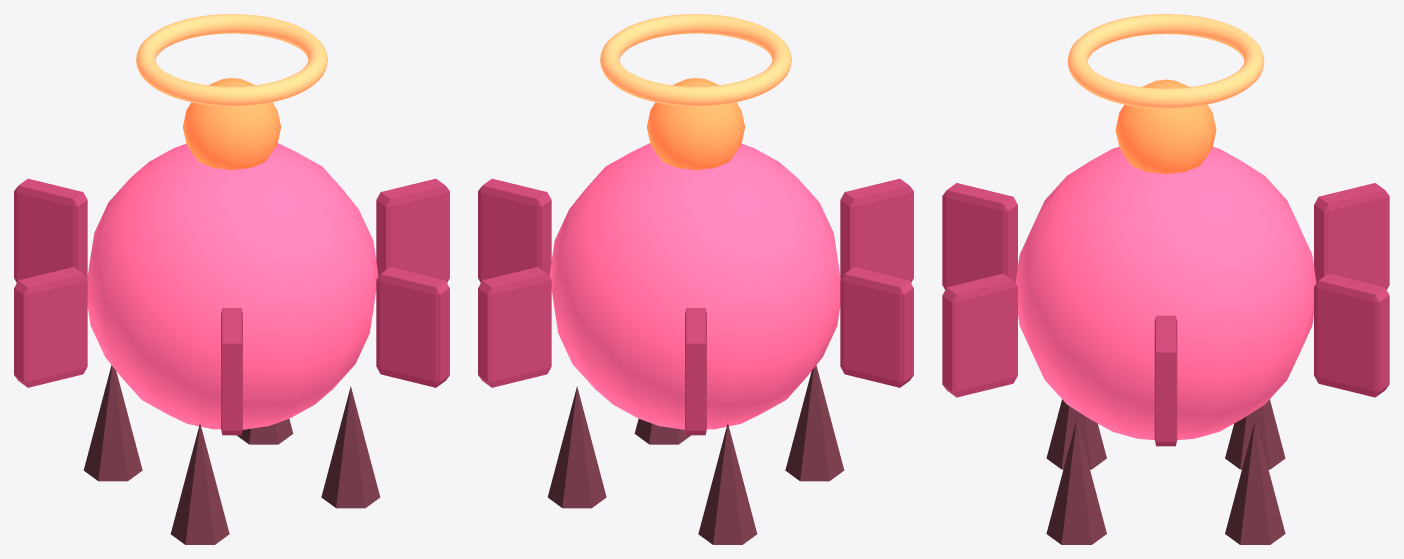
The model's file is corrupted_compiler.glb.
3 views of the same model, side by side, from view 1: azimuth 30°, elevation 25°; view 2: azimuth 150°, elevation 25°; view 3: azimuth 270°, elevation 25° (orthographic). The views are drawn at different scales.
Parts seen in each view (by area): view 1: BossCore, BossCrown, ArmorPlate_3, ArmorPlate_5, ArmorPlate_2, ArmorPlate_0, BossEye, BossSpike_3, BossSpike_2, BossSpike_1, ArmorPlate_4, BossSpike_0; view 2: BossCore, BossCrown, ArmorPlate_1, ArmorPlate_3, ArmorPlate_4, ArmorPlate_0, BossEye, BossSpike_0, BossSpike_1, BossSpike_2, ArmorPlate_2, BossSpike_3; view 3: BossCore, BossCrown, ArmorPlate_1, ArmorPlate_5, ArmorPlate_2, ArmorPlate_4, BossEye, BossSpike_0, BossSpike_3, ArmorPlate_0, BossSpike_1, BossSpike_2.
Part boxes in pixels (x1,y1,x2,y2): BossCore: (87, 143, 378, 429); BossCrown: (136, 14, 327, 106); ArmorPlate_3: (14, 267, 87, 387); ArmorPlate_5: (376, 267, 449, 387); ArmorPlate_2: (14, 178, 87, 282); ArmorPlate_0: (376, 178, 449, 282); BossEye: (183, 78, 280, 170); BossSpike_3: (321, 386, 380, 508); BossSpike_2: (170, 423, 229, 544); BossSpike_1: (83, 365, 142, 481); ArmorPlate_4: (221, 308, 242, 435); BossSpike_0: (237, 419, 293, 444); BossCore: (549, 143, 840, 429); BossCrown: (600, 14, 791, 106); ArmorPlate_1: (478, 267, 551, 387); ArmorPlate_3: (840, 267, 913, 387); ArmorPlate_4: (840, 178, 913, 282); ArmorPlate_0: (478, 178, 551, 282); BossEye: (647, 78, 744, 170); BossSpike_0: (547, 386, 606, 508); BossSpike_1: (698, 423, 757, 544); BossSpike_2: (785, 365, 844, 481); ArmorPlate_2: (685, 308, 706, 435); BossSpike_3: (634, 419, 690, 444); BossCore: (1015, 147, 1316, 439); BossCrown: (1067, 14, 1264, 108); ArmorPlate_1: (1314, 273, 1389, 397); ArmorPlate_5: (942, 273, 1017, 397); ArmorPlate_2: (1314, 183, 1389, 289); ArmorPlate_4: (942, 183, 1017, 289); BossEye: (1115, 79, 1216, 173); BossSpike_0: (1225, 420, 1285, 544); BossSpike_3: (1046, 420, 1106, 544); ArmorPlate_0: (1154, 315, 1177, 446); BossSpike_1: (1225, 399, 1285, 469); BossSpike_2: (1046, 399, 1106, 469).
Size of the model in its own units: 2 by 1.94 by 1.77.
